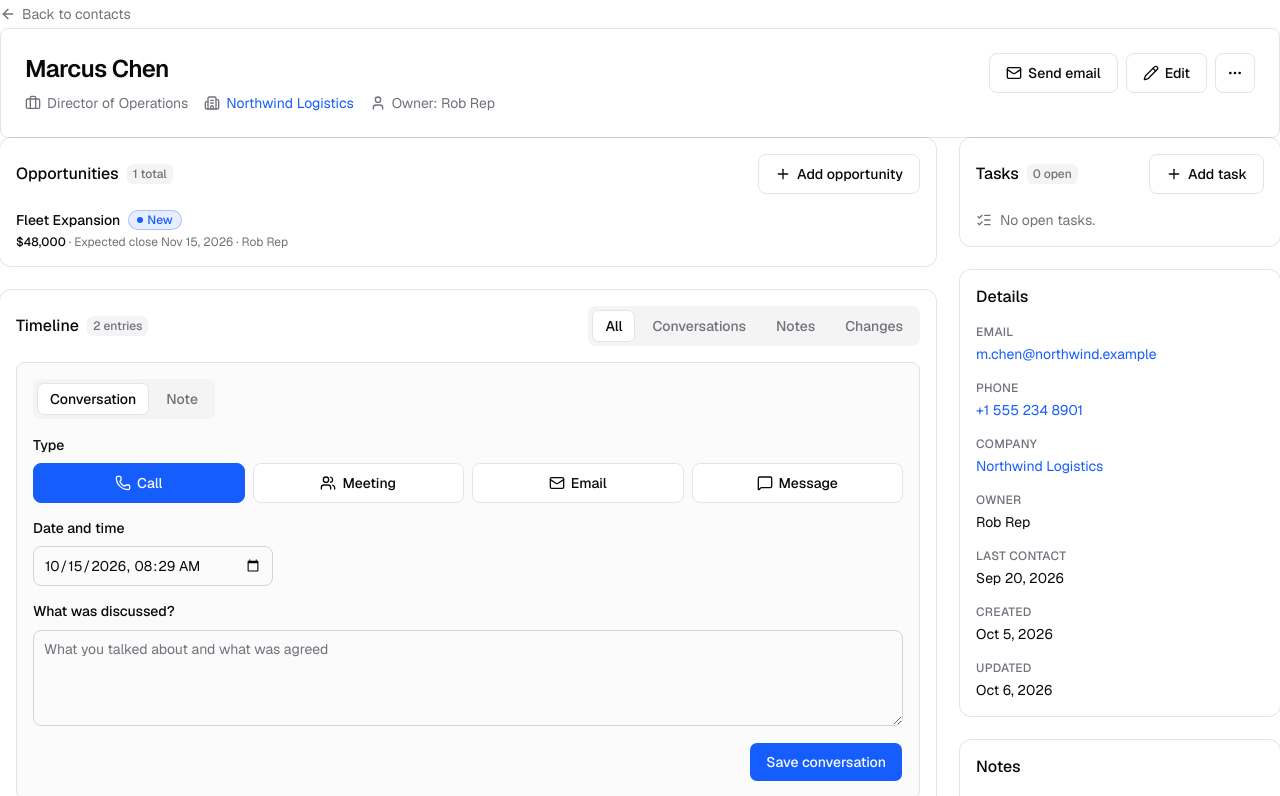
Test: ContactDetailPage › reassigns the contact, then shows the new owner and the entry the API wrote
The width and height of the screenshot is (1280, 796).
Expected: the heading "Marcus Chen" is shown, x1=25 y1=53 x2=169 y2=85
Expected: the list named "Opportunities" is shown, x1=16 y1=210 x2=288 y2=250
Click the button named "More actions": click(1235, 73) x1=1215 y1=53 x2=1255 y2=93
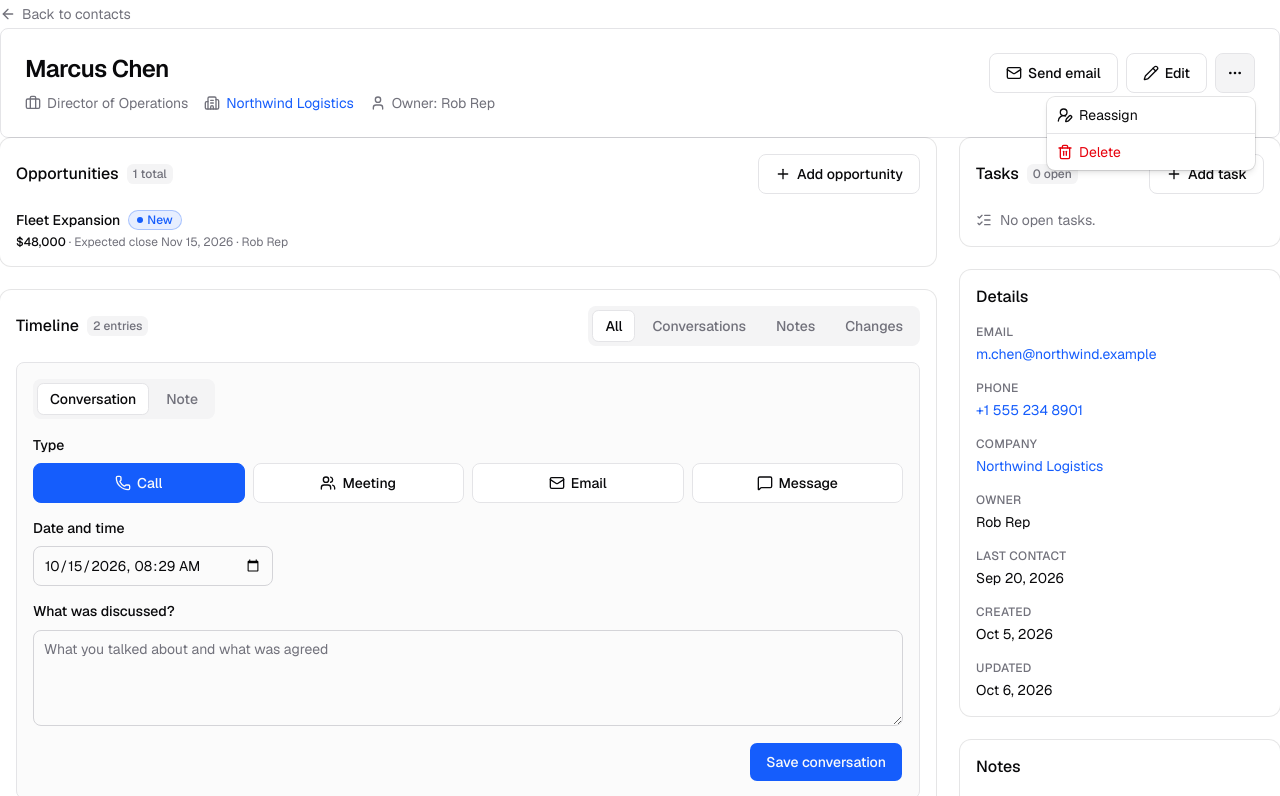
Click the menu item "Reassign": click(1097, 115) x1=1057 y1=106 x2=1138 y2=124
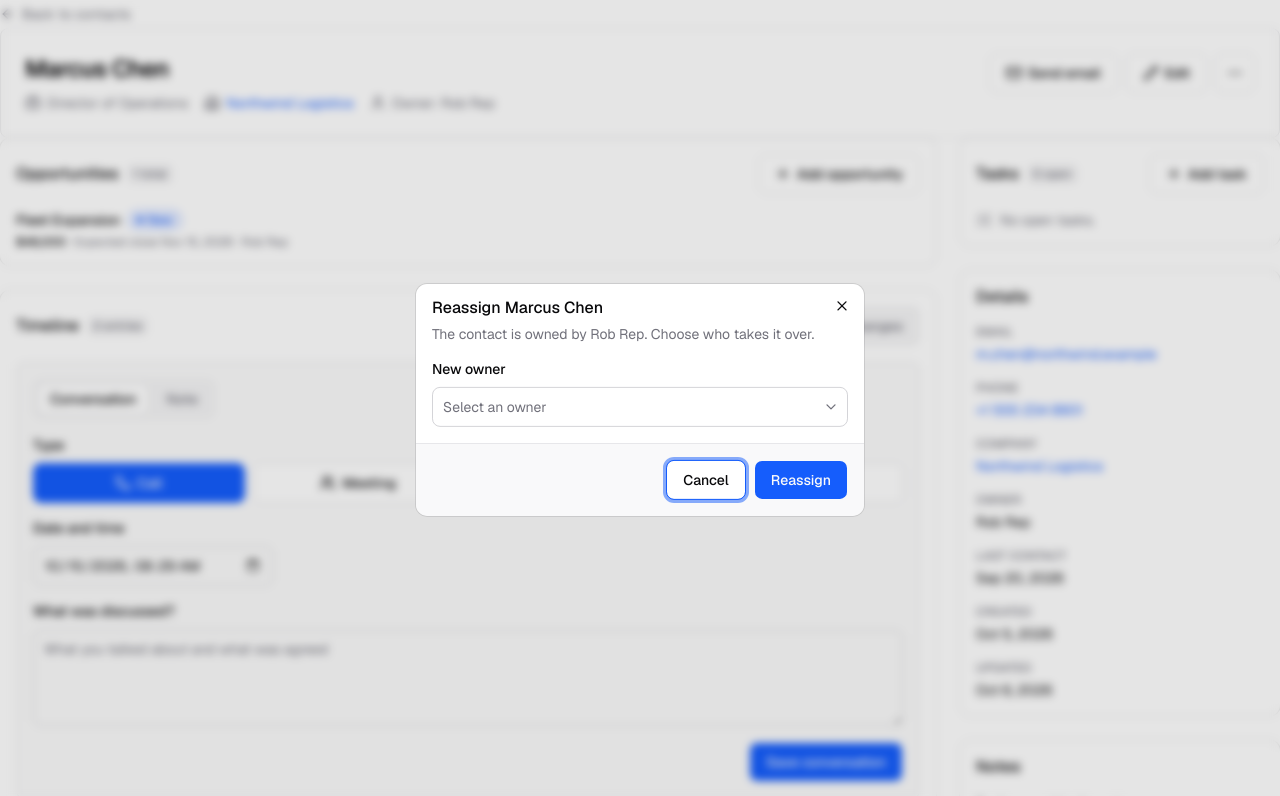
Click the dropdown named "New owner": click(495, 407) x1=432 y1=387 x2=848 y2=427
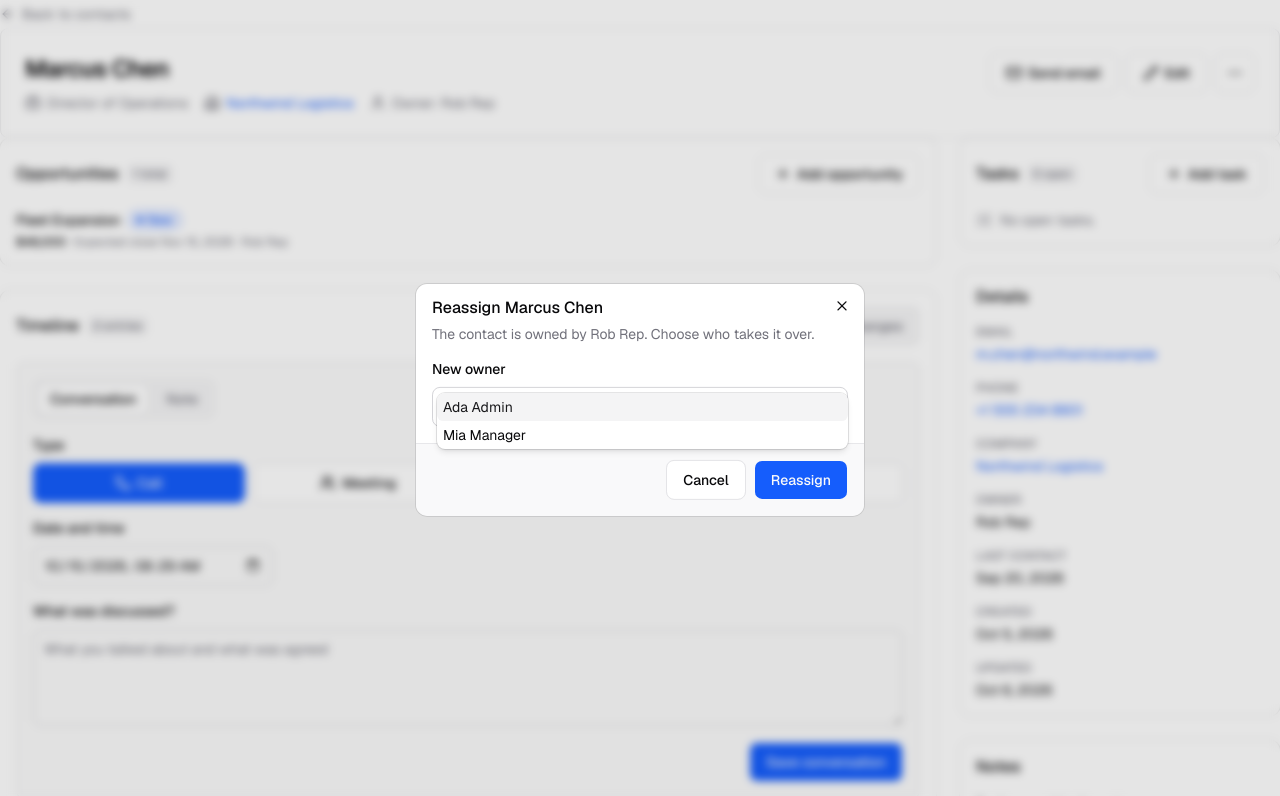
Click the option "Mia Manager": click(485, 435) x1=443 y1=426 x2=526 y2=444
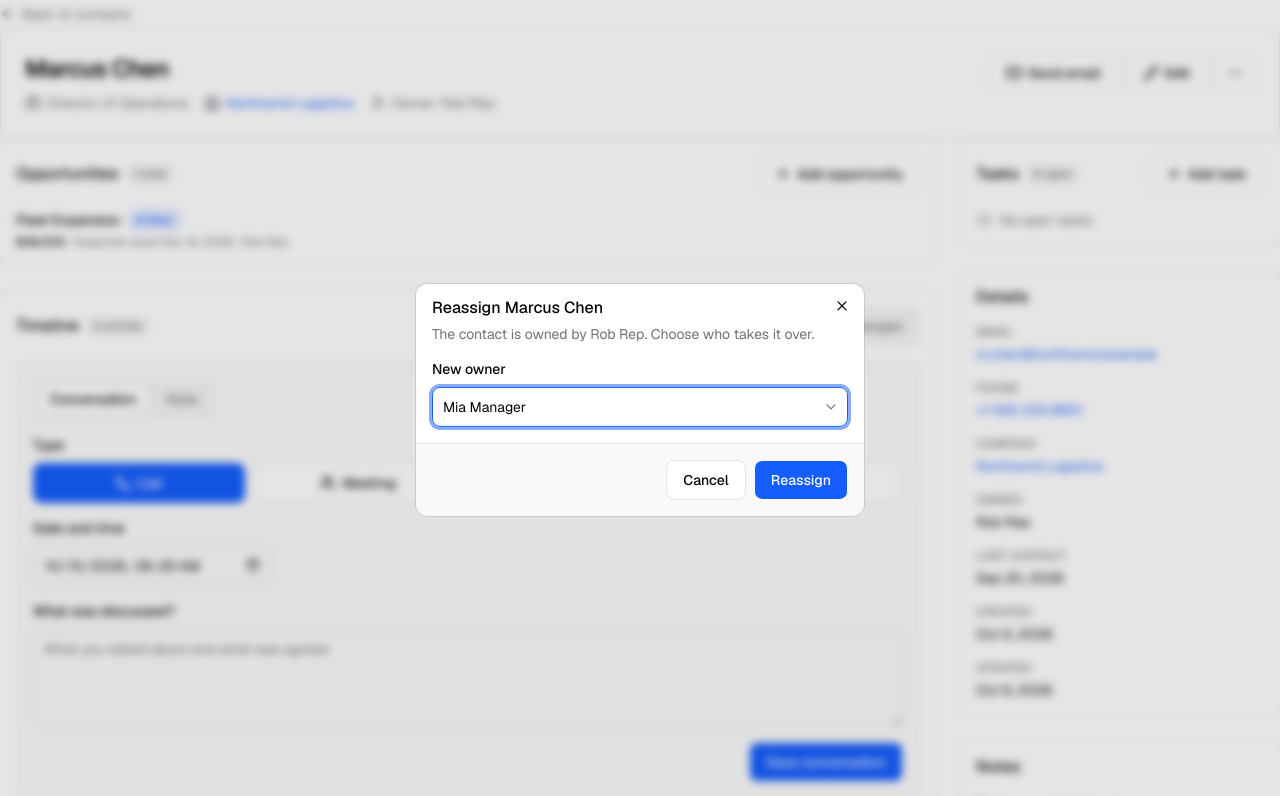
Click the button "Reassign": click(801, 480) x1=754 y1=460 x2=848 y2=500
(page scrolled)
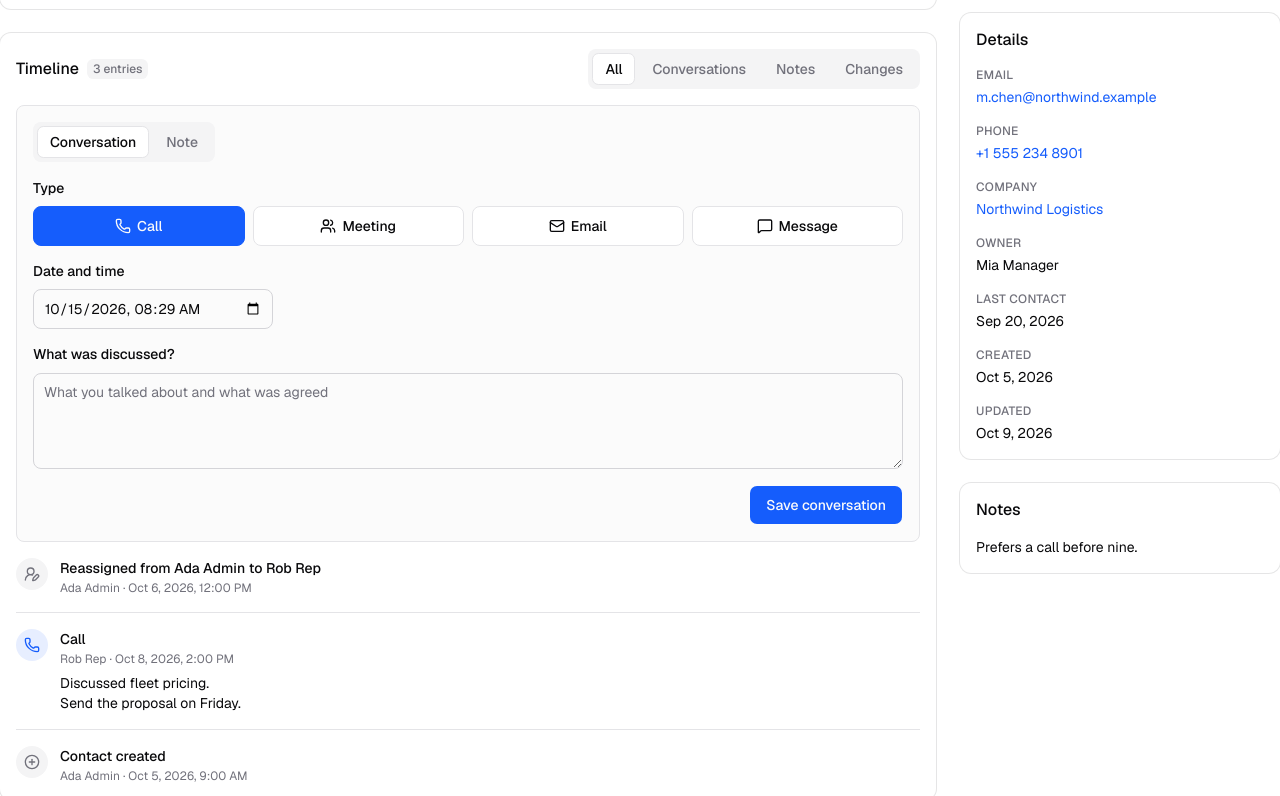
Now the text "Reassigned from Ada Admin to Rob Rep" is shown, box x1=60 y1=558 x2=321 y2=576
